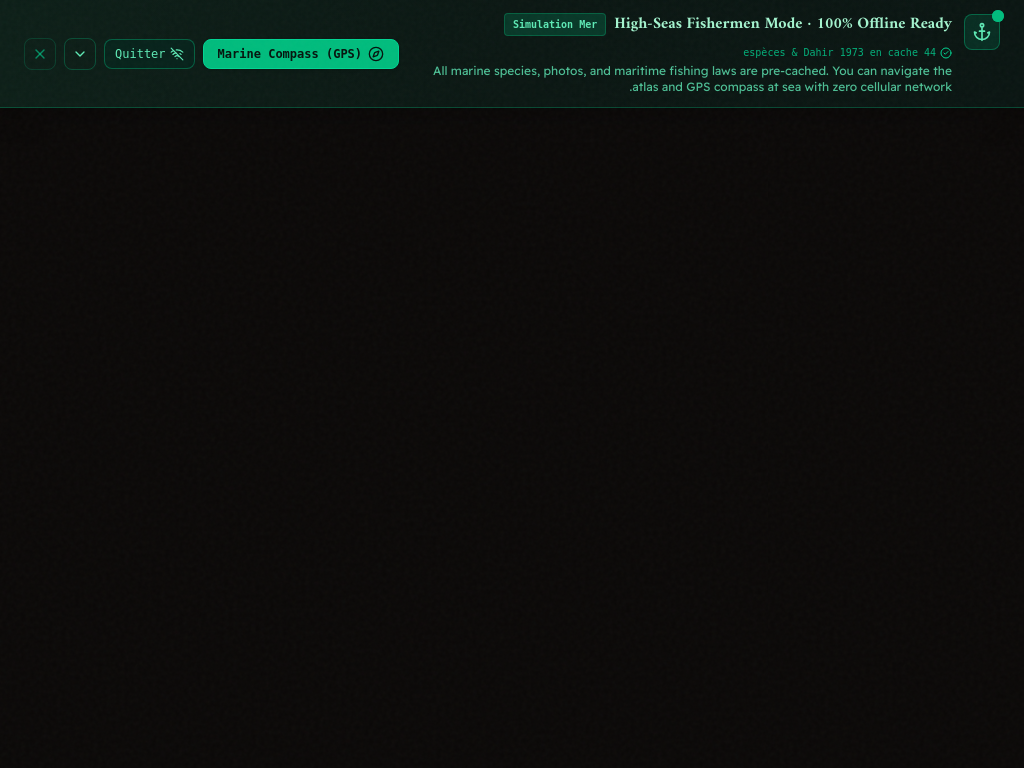
Scenario: OffshoreFishermanBanner › can be dismissed into a compact floating indicator
The width and height of the screenshot is (1024, 768).
Click the button named "Dismiss banner". click: (40, 54)
box: x1=24 y1=38 x2=56 y2=70
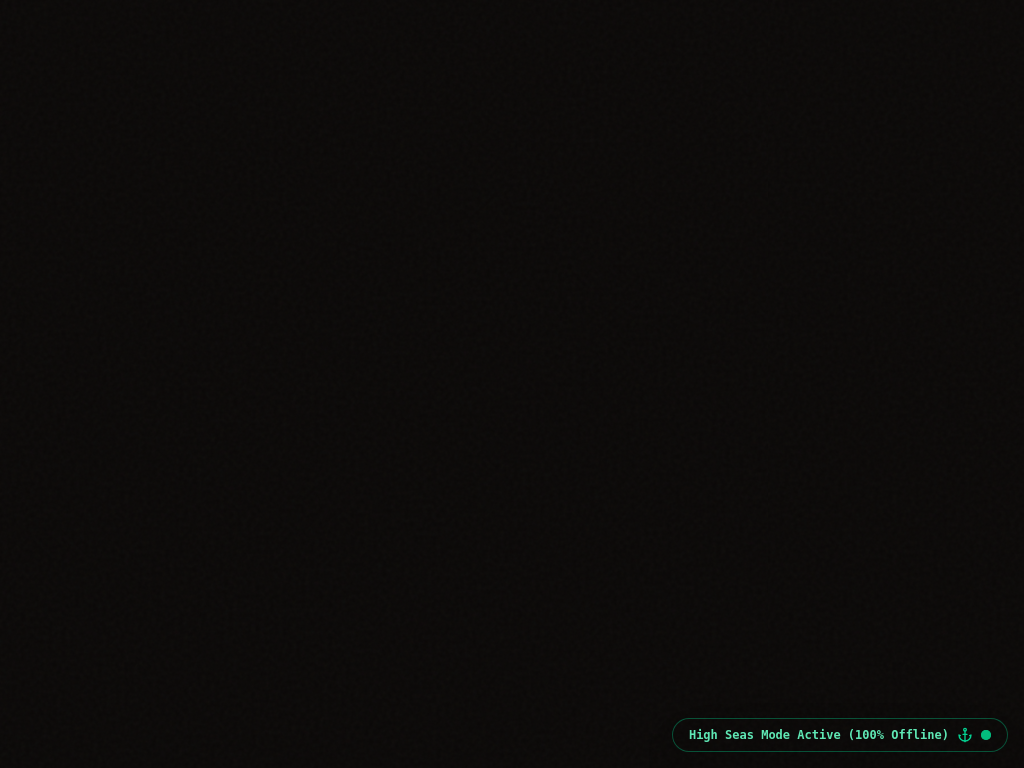
Expected: the text "High Seas Mode Active (100% Offline)" is shown, x1=689 y1=727 x2=949 y2=743
